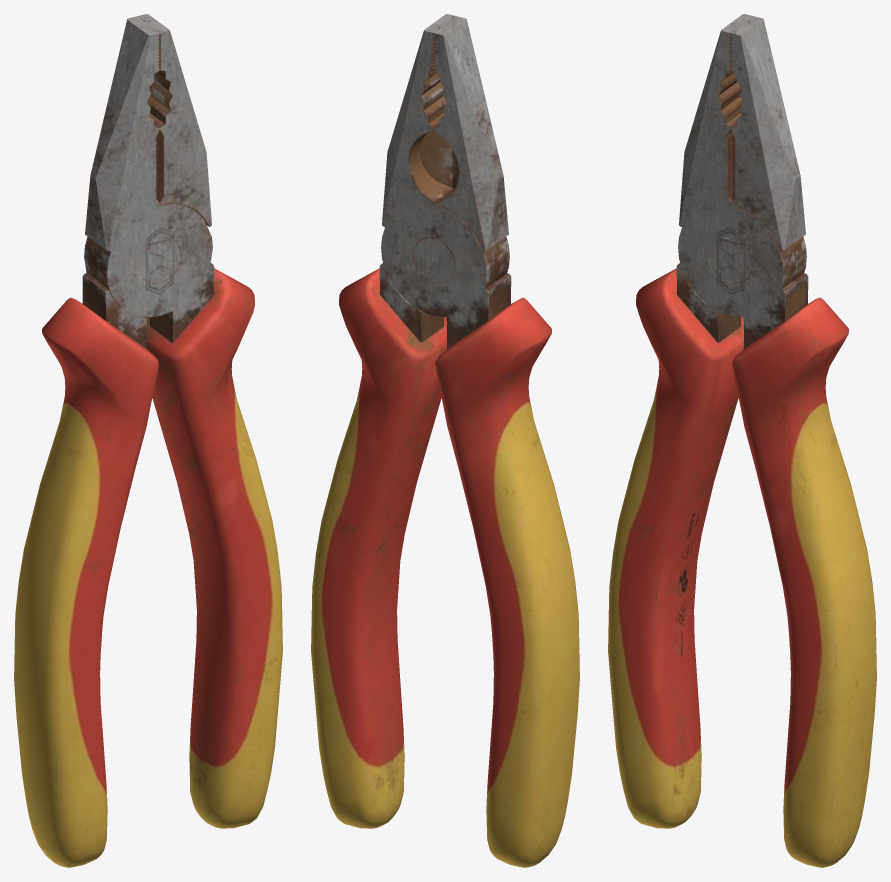
The model's file is pliers.glb.
3 views of the same model, side by side, from view 1: azimuth 30°, elevation 25°; view 2: azimuth 150°, elevation 25°; view 3: azimuth 330°, elevation 25° (orthographic).
Visible parts, largest first — view 1: pliers_b; view 2: pliers_b; view 3: pliers_b.
Boxes of the visible parts, left/top/right/bottom form: pliers_b: left=14, top=14, right=282, bottom=867; pliers_b: left=311, top=14, right=579, bottom=867; pliers_b: left=608, top=14, right=876, bottom=867.
Bounding box in the file's own units: 0.0553 × 0.1798 × 0.0179.
Materials: 1 (1 with a texture image).
